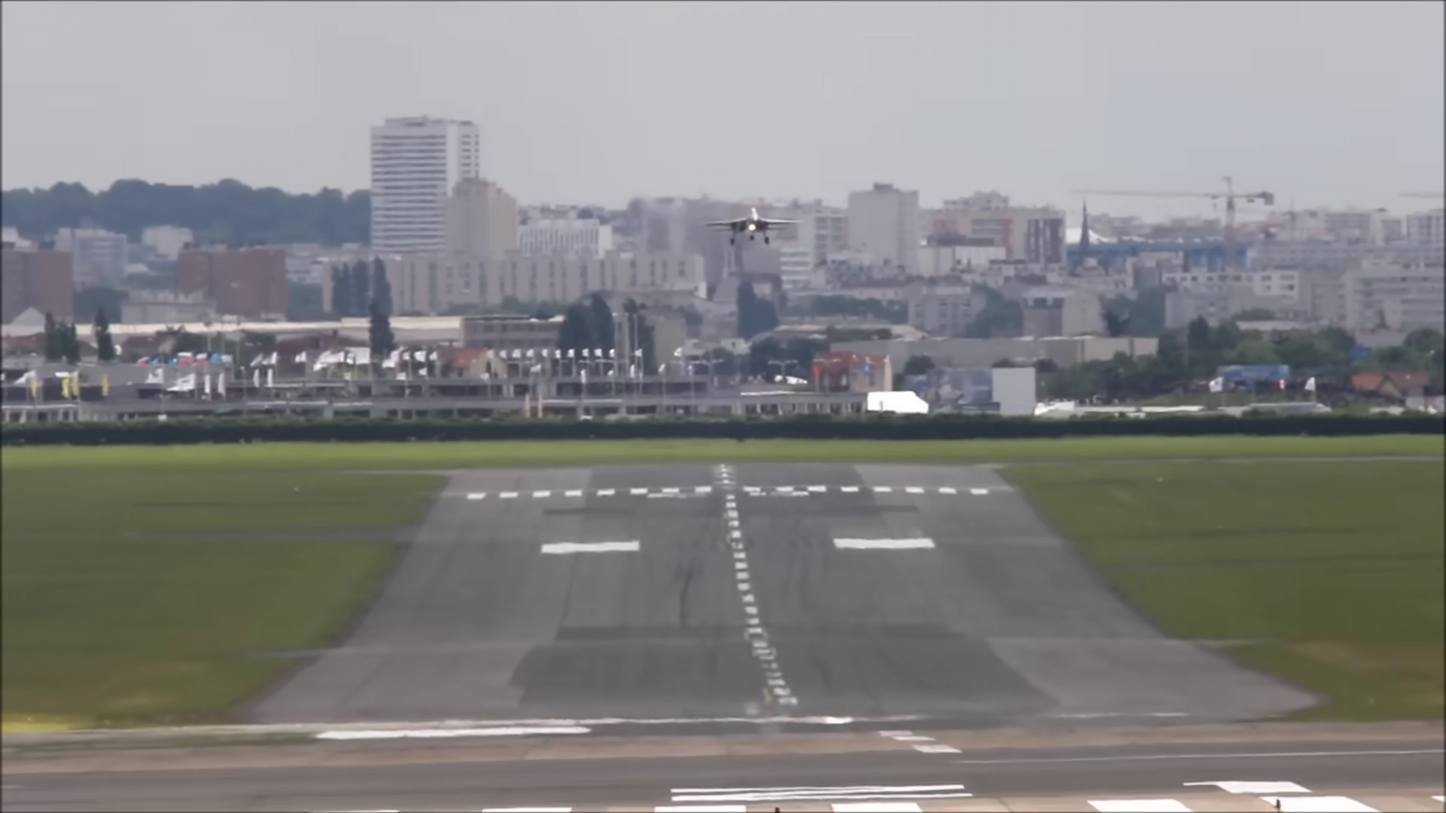Su35: (702, 199, 800, 242)
